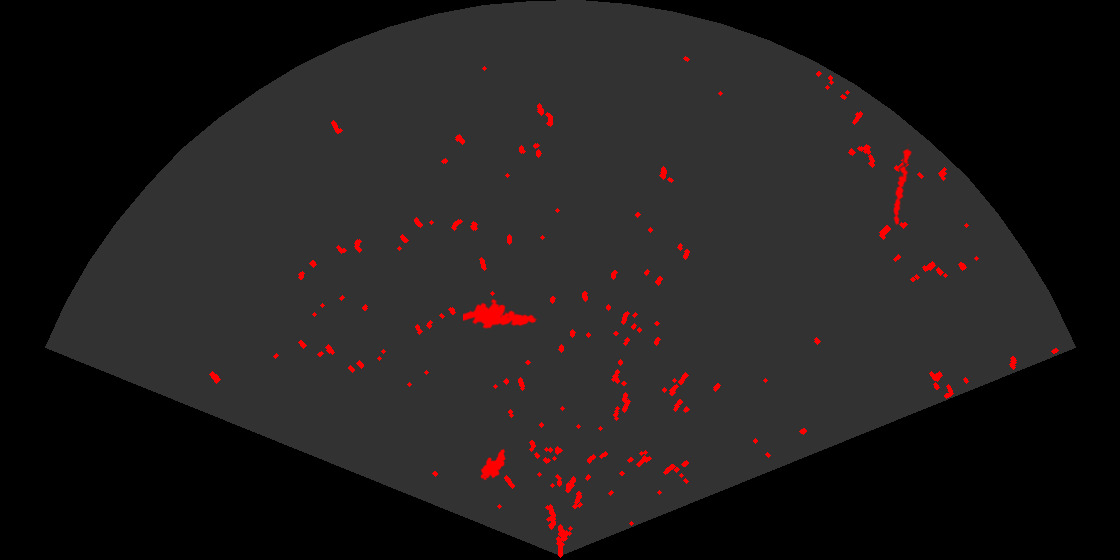AUV: (479, 447, 507, 482)
chain: (892, 144, 913, 226)
frogman: (463, 297, 538, 330)
